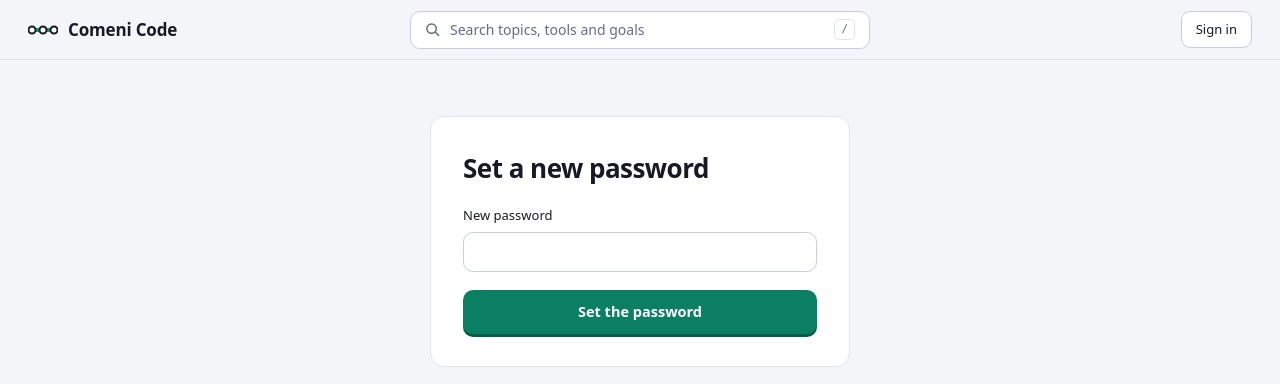
it: resetting a password › sets the new password with the link's key
Step 1. Type "a long new password" into the password field labelled "New password" → (640, 252), box top-left (463, 232), bottom-right (817, 272)
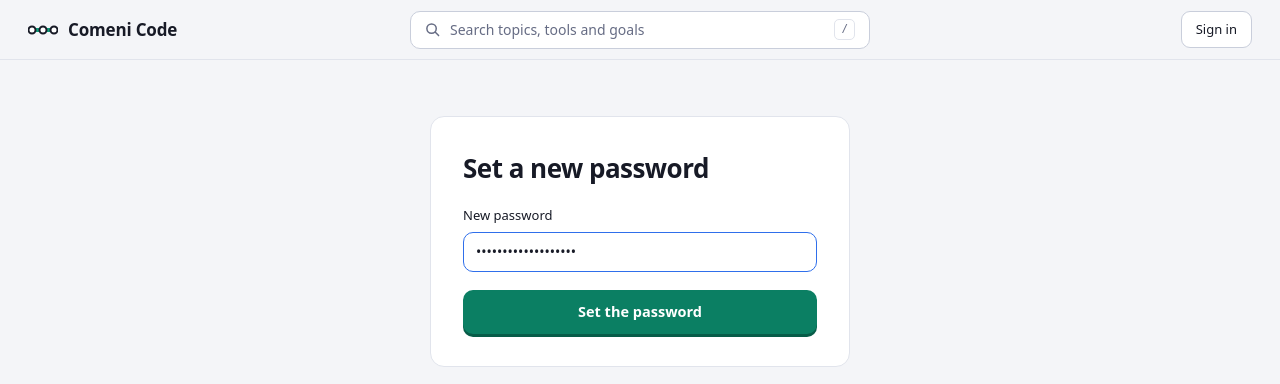
Step 2. Click the button "Set the password" → (640, 312), box top-left (463, 290), bottom-right (817, 334)
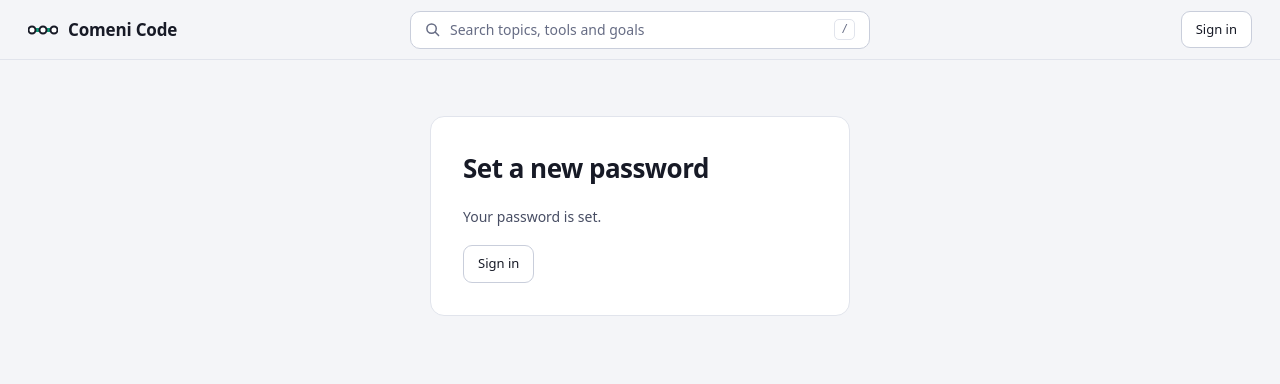
Now the text "Your password is set." is shown, box top-left (463, 207), bottom-right (601, 226)
